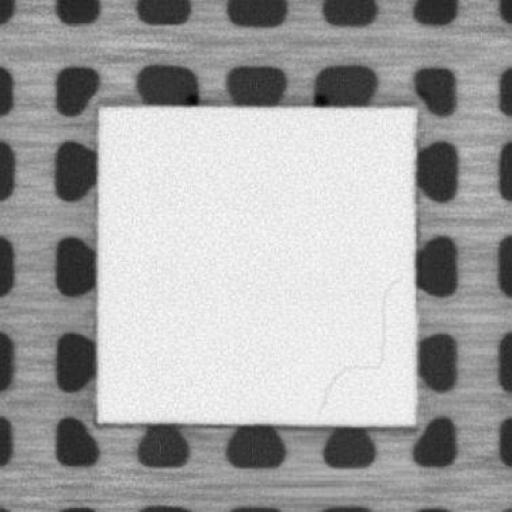DIE_CRACK: (313, 272, 404, 418)
